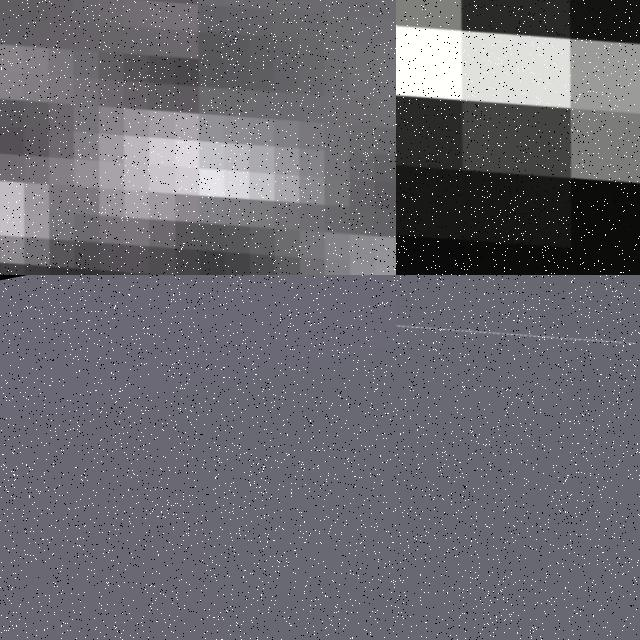0: (0, 0, 396, 275), (396, 275, 640, 411)
drone: (396, 0, 640, 275)
